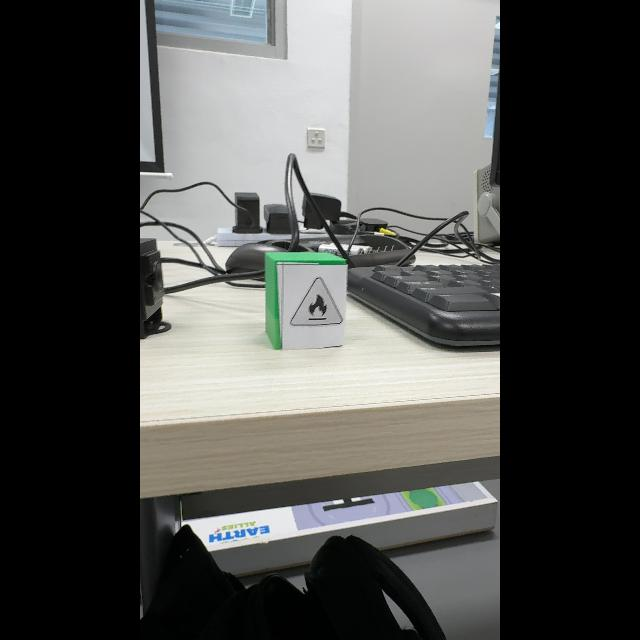Fire: (290, 277, 343, 326)
